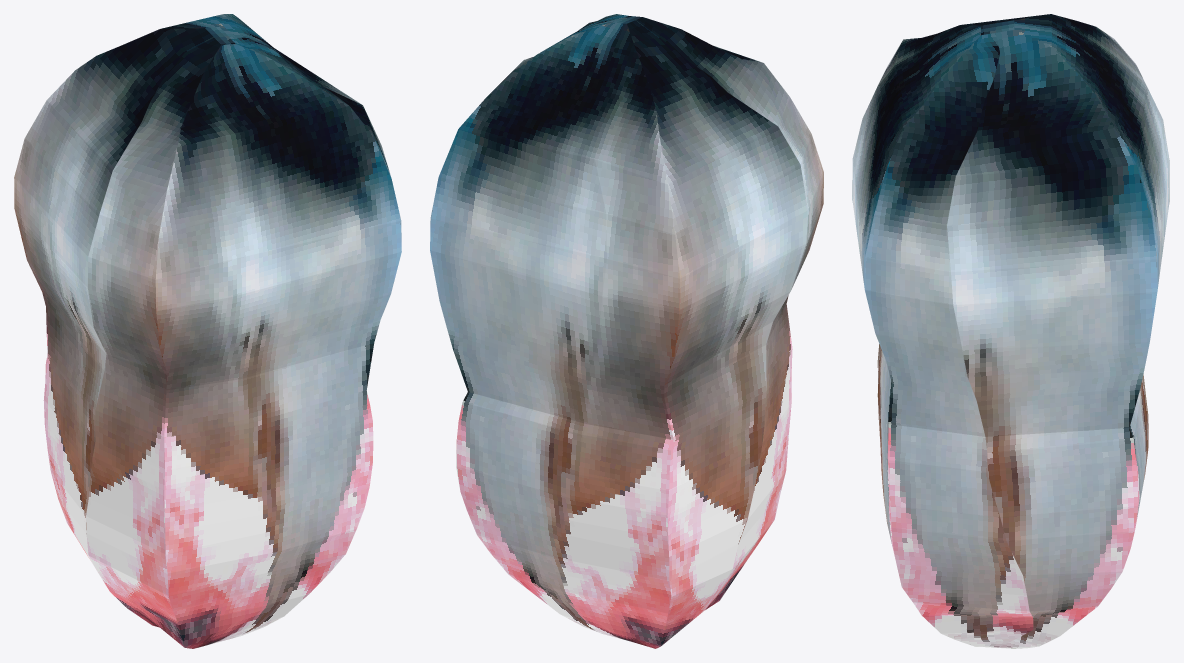
File: metamorphosis_v15_t.glb
3 renders of one model, left to right at view 1: azimuth 30°, elevation 25°; view 2: azimuth 150°, elevation 25°; view 3: azimuth 270°, elevation 25°, orthographic. The views are drawn at different scales.
Visible parts, largest first — view 1: Cube; view 2: Cube; view 3: Cube.
Part boxes in pixels (box(x1,y1,x2,y2)): Cube: box(14, 14, 401, 648); Cube: box(430, 14, 823, 648); Cube: box(852, 14, 1169, 648).
Bounding box in the file's own units: 0.9492 × 1.84 × 0.8468.
1 material, 1 textured.
